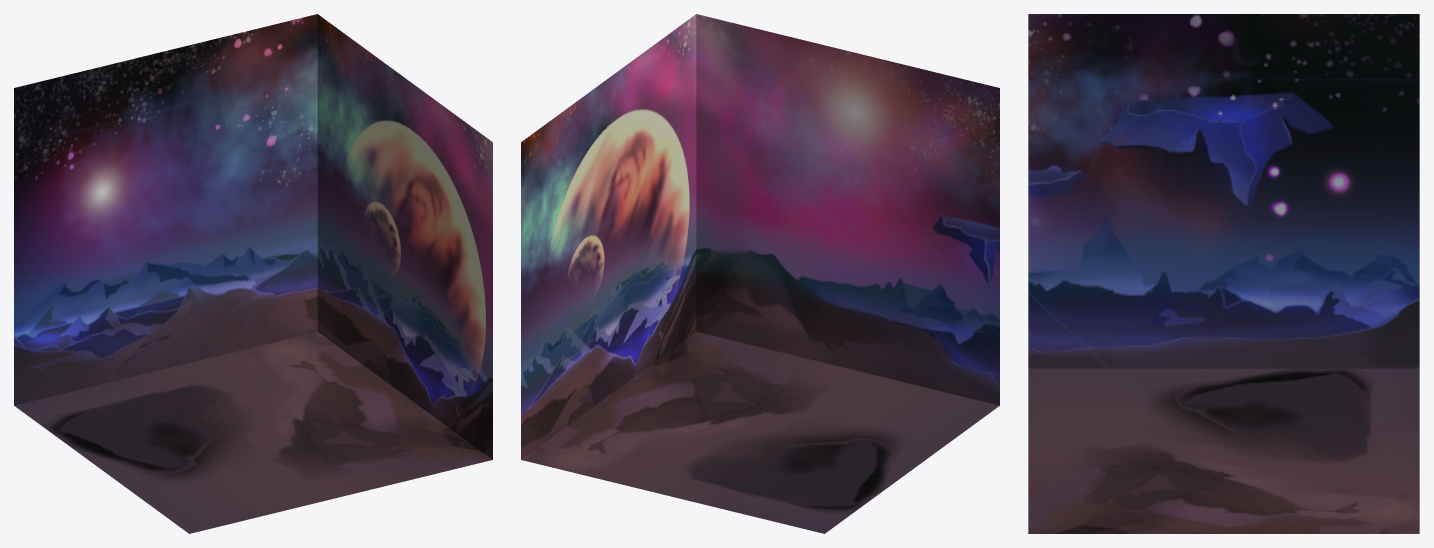
Rendered from space_skybox.gltf.
The picture shows the model from 3 angles, left to right: view 1: azimuth 30°, elevation 25°; view 2: azimuth 150°, elevation 25°; view 3: azimuth 270°, elevation 25°; orthographic projection. The views are drawn at different scales.
Parts seen in each view (by area): view 1: egypt_skybox_glb; view 2: egypt_skybox_glb; view 3: egypt_skybox_glb.
Part boxes in pixels (x1,y1,x2,y2): egypt_skybox_glb: (14, 14, 492, 533); egypt_skybox_glb: (521, 14, 999, 533); egypt_skybox_glb: (1028, 14, 1419, 533).
Size of what is drawn, in the model's own units: 48 by 48 by 48.
Materials: 1 (1 with a texture image).
